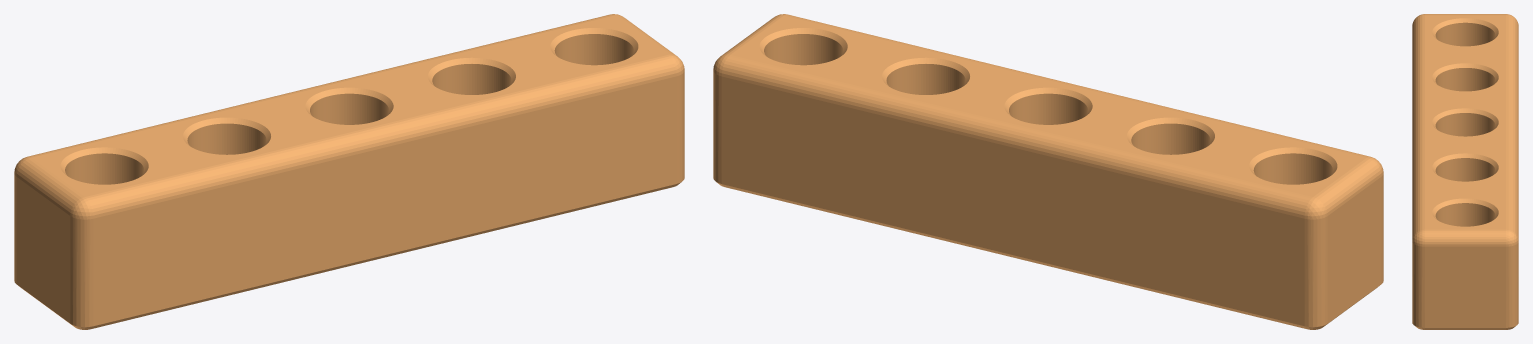
File: beam-str-tu05.glb
3 views of the same model, side by side, from view 1: azimuth 30°, elevation 25°; view 2: azimuth 150°, elevation 25°; view 3: azimuth 270°, elevation 25° (orthographic). The views are drawn at different scales.
Parts seen in each view (by area): view 1: beam-str-tu05; view 2: beam-str-tu05; view 3: beam-str-tu05.
Boxes of the visible parts, box(x1,y1,x2,y2) form: beam-str-tu05: box(14, 14, 684, 329); beam-str-tu05: box(713, 14, 1383, 329); beam-str-tu05: box(1412, 14, 1518, 329).
Bounding box in the file's own units: 0.0625 × 0.0125 × 0.0125.
